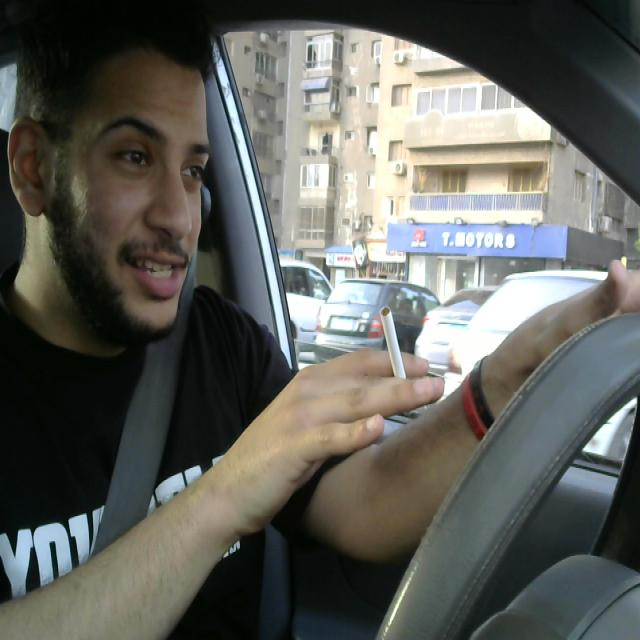smoking: (362, 287, 426, 421)
